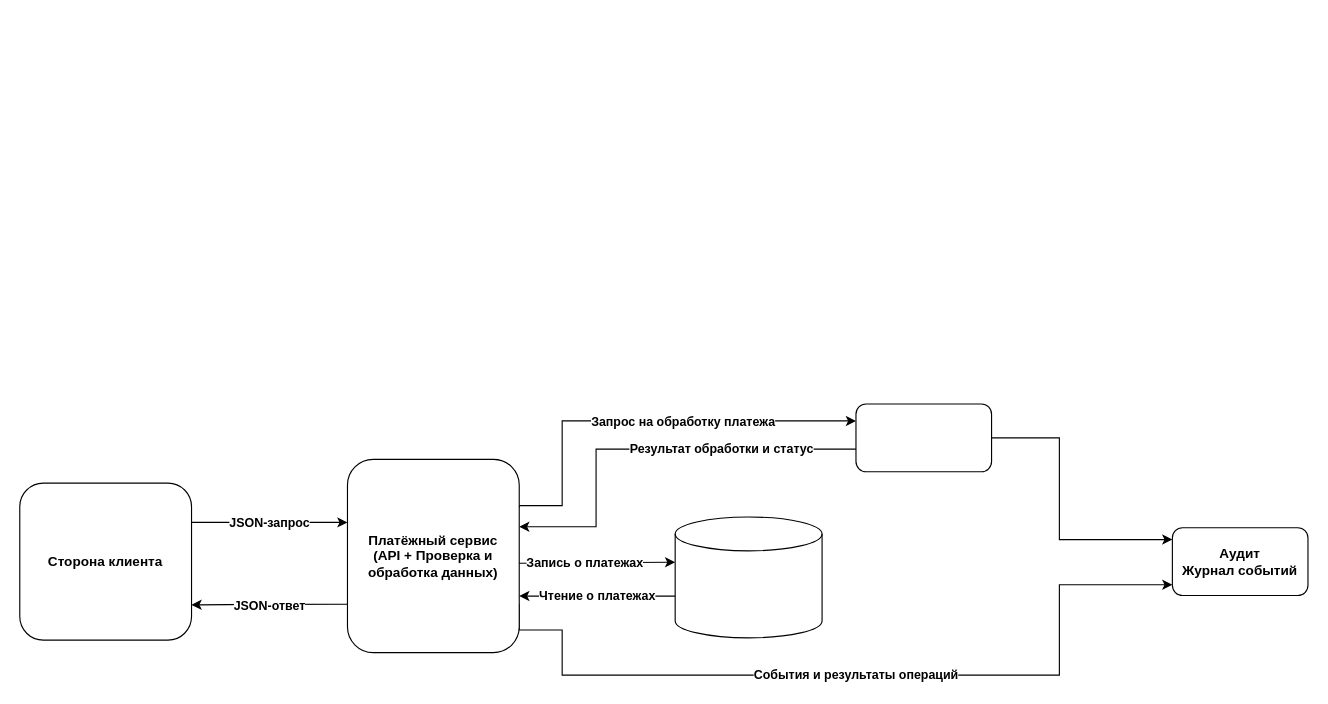
This 1328x704 diagram has some shape labels left out. Each missing label, with the centre of its shape:
"Хранилище записей о платежах" belongs at [748,577].
"Эмулятор платёжного шлюза" belongs at [923,437].
